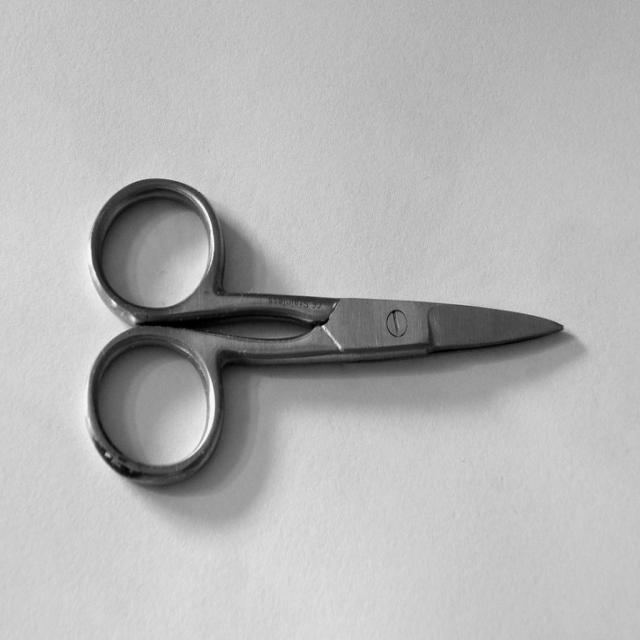scissors: (84, 177, 564, 487)
